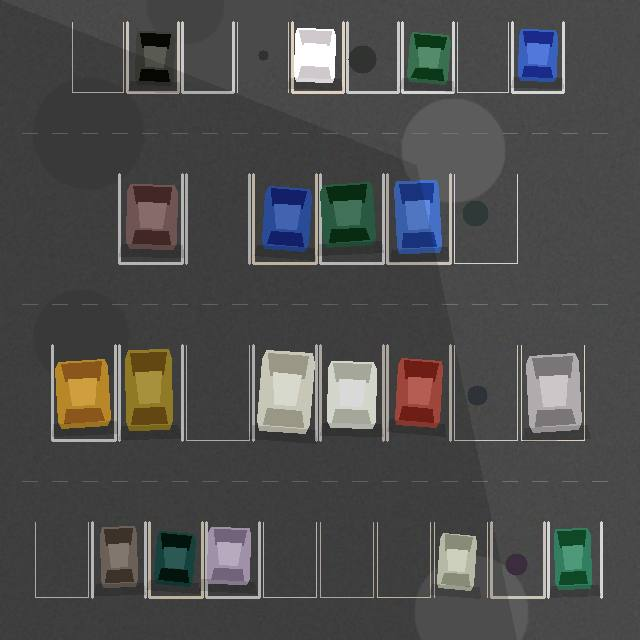space-empty: (186, 345, 249, 440), (454, 345, 517, 440), (186, 174, 249, 263), (454, 174, 517, 263), (35, 522, 88, 597), (263, 522, 316, 597), (320, 522, 373, 597), (377, 522, 430, 597), (491, 522, 544, 597), (72, 22, 123, 92), (182, 22, 233, 92), (237, 22, 288, 92), (347, 22, 398, 92), (457, 22, 508, 92)
space-occupied: (52, 345, 115, 440), (119, 345, 182, 440), (253, 345, 316, 440), (320, 345, 383, 440), (387, 345, 450, 440), (521, 345, 584, 440), (119, 174, 182, 263), (253, 174, 316, 263), (320, 174, 383, 263), (387, 174, 450, 263), (92, 522, 145, 597), (149, 522, 202, 597), (206, 522, 259, 597), (434, 522, 487, 597), (548, 522, 601, 597), (127, 22, 178, 92), (292, 22, 343, 92), (402, 22, 453, 92), (512, 22, 563, 92)
